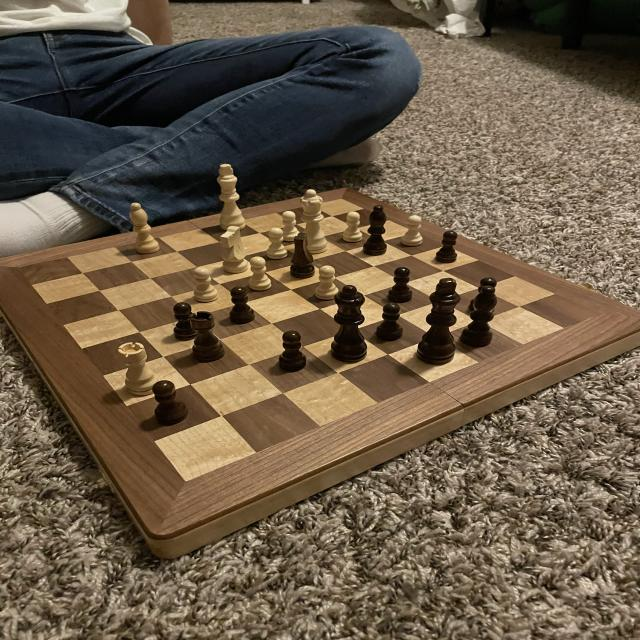bishop: (456, 283, 502, 352), (361, 202, 391, 260)
black-bishop: (413, 274, 464, 369)
black-king: (284, 230, 320, 280)
black-knight: (148, 377, 192, 426), (274, 326, 312, 376), (370, 298, 409, 344), (465, 274, 503, 317), (226, 282, 260, 328), (384, 263, 416, 306), (169, 301, 201, 342), (431, 228, 464, 265)
black-pawn: (327, 282, 371, 368)
black-queen: (187, 307, 229, 366)
black-rook: (125, 198, 165, 256)
white-bishop: (210, 159, 250, 234)
white-king: (215, 222, 252, 276)
white-knight: (188, 263, 222, 306), (310, 262, 344, 302), (247, 253, 274, 293), (397, 213, 426, 250), (339, 208, 367, 244), (278, 208, 306, 243), (266, 224, 290, 263)
white-pawn: (296, 186, 333, 258)
white-queen: (116, 339, 164, 401)
